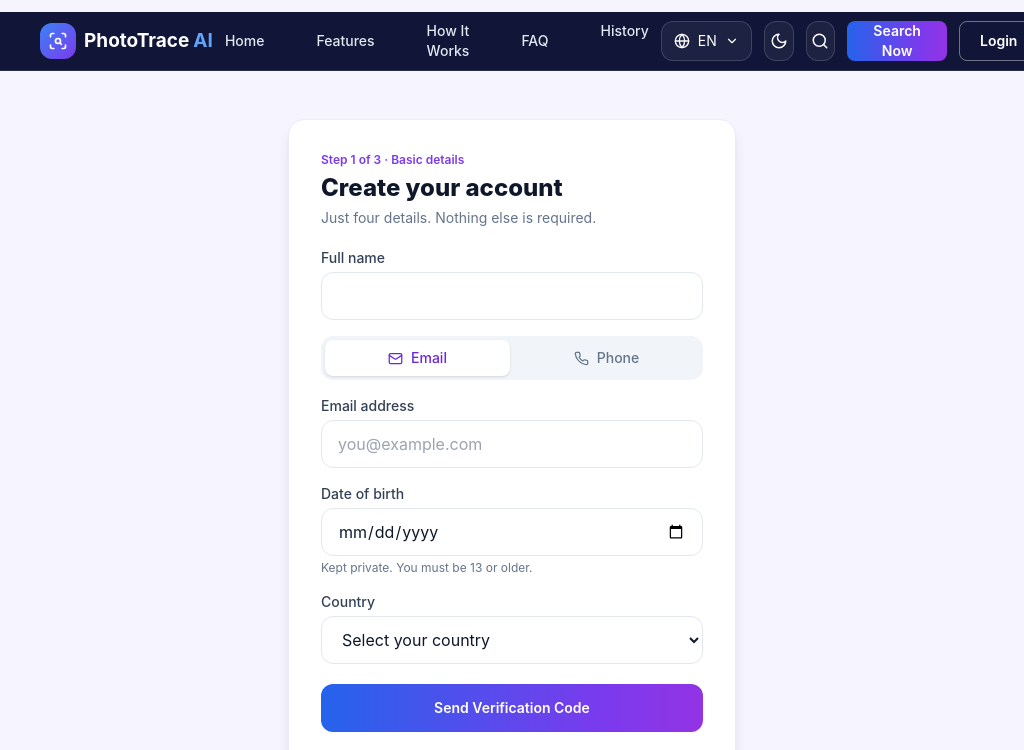
Test case: sign-up guidance › stays on step 1 and shows the error when delivery fails (503)
Type "Ada Lovelace" into the field labelled "Full name" at (512, 296), box [321, 272, 703, 320]
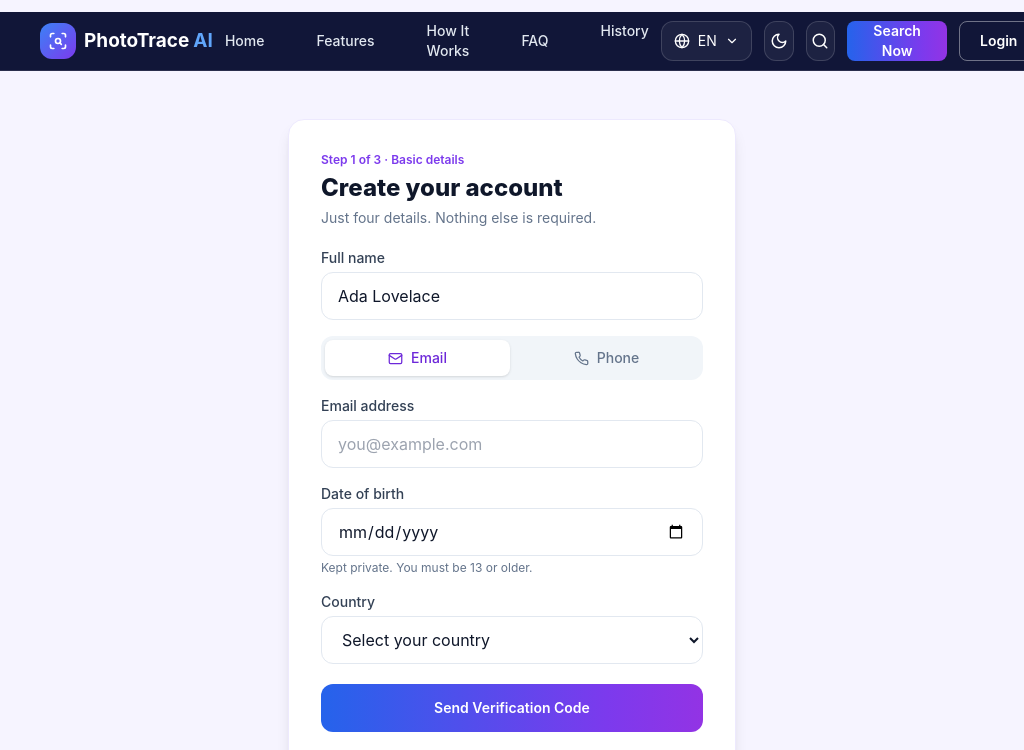
Type "ada@example.com" into the field labelled "Email address" at (512, 444), box [321, 420, 703, 468]
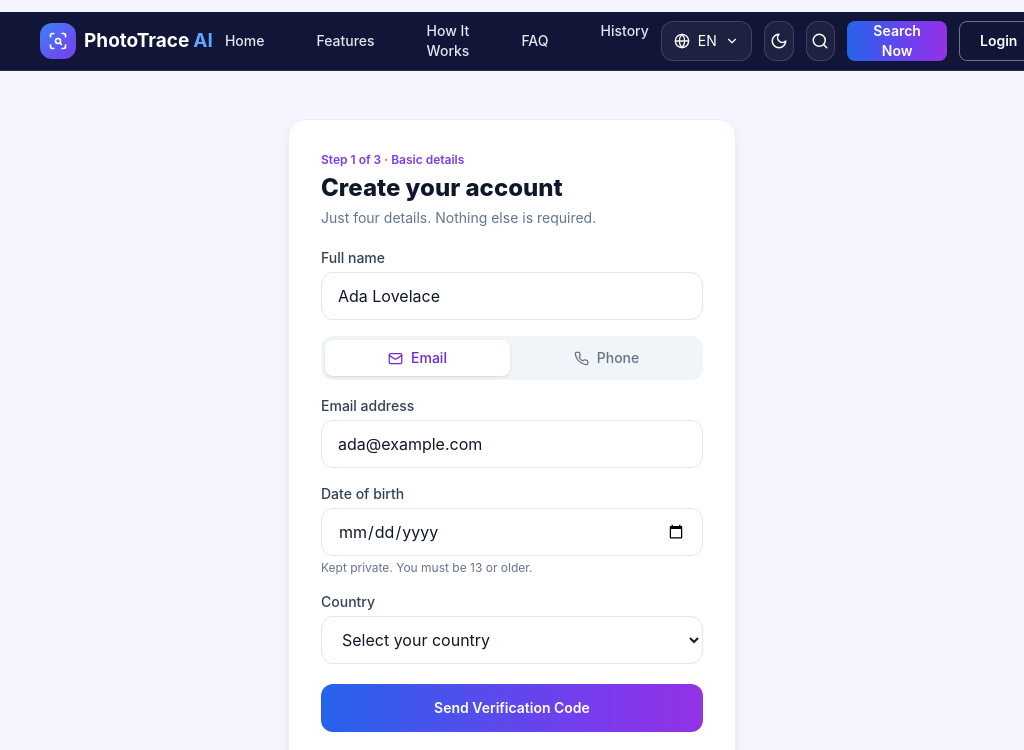
Type "1990-05-01" into the date field labelled "Date of birth" at (512, 532), box [321, 508, 703, 556]
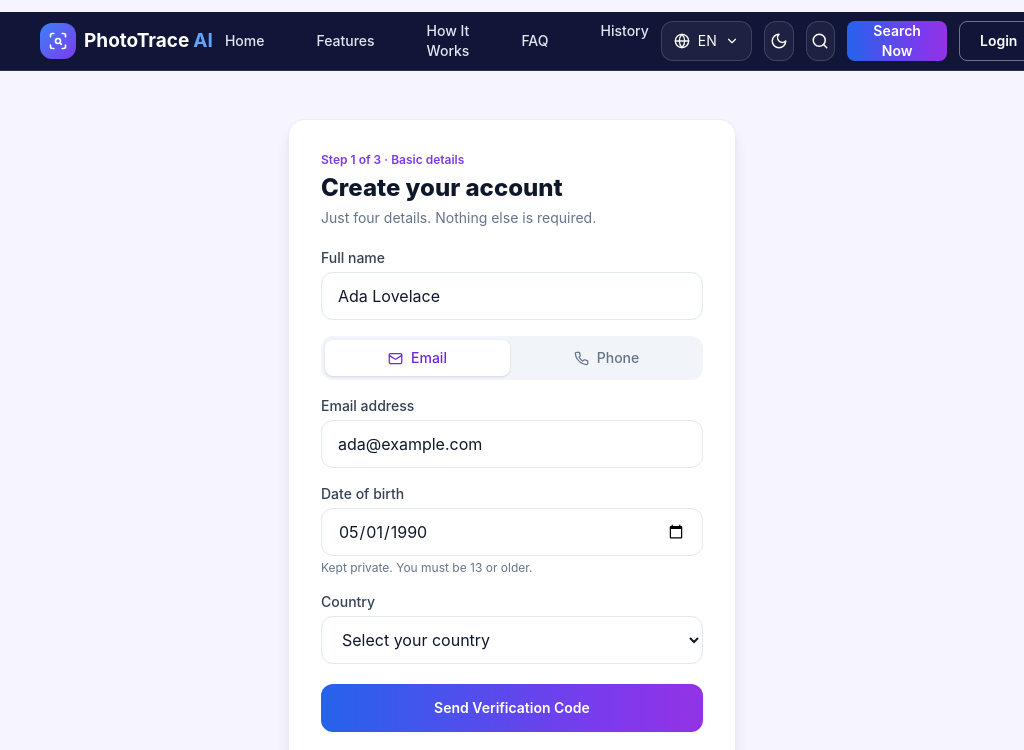
Select "GB" in the dropdown labelled "Country" at (512, 640), box [321, 616, 703, 664]
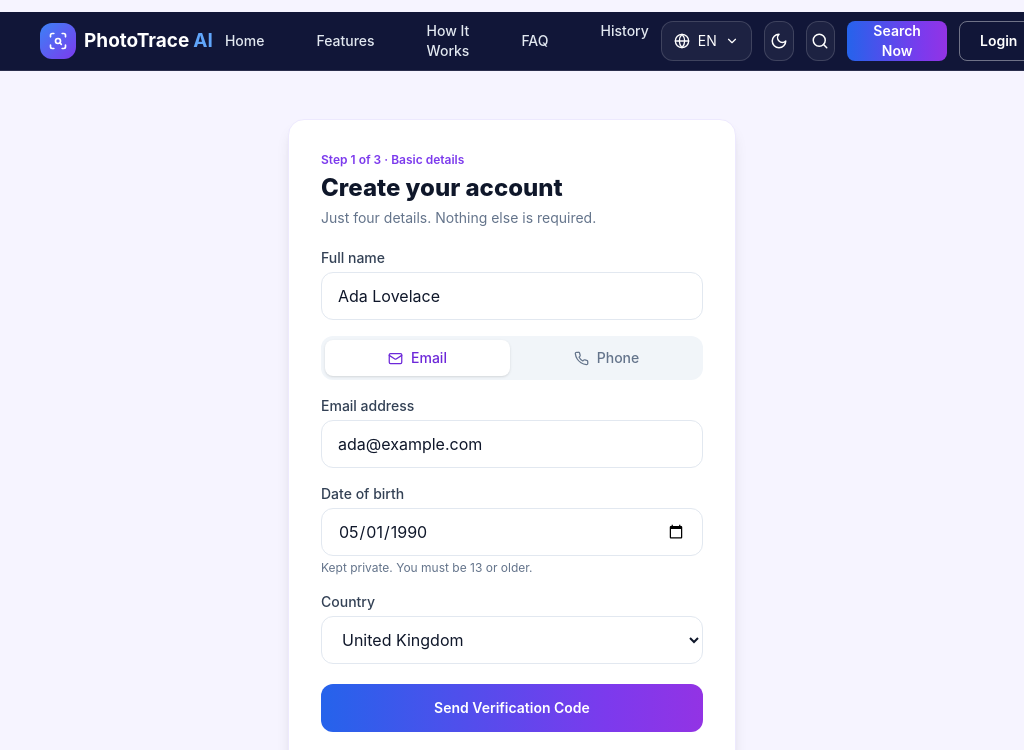
Click the button "Send Verification Code" at (512, 708), box [321, 684, 703, 732]
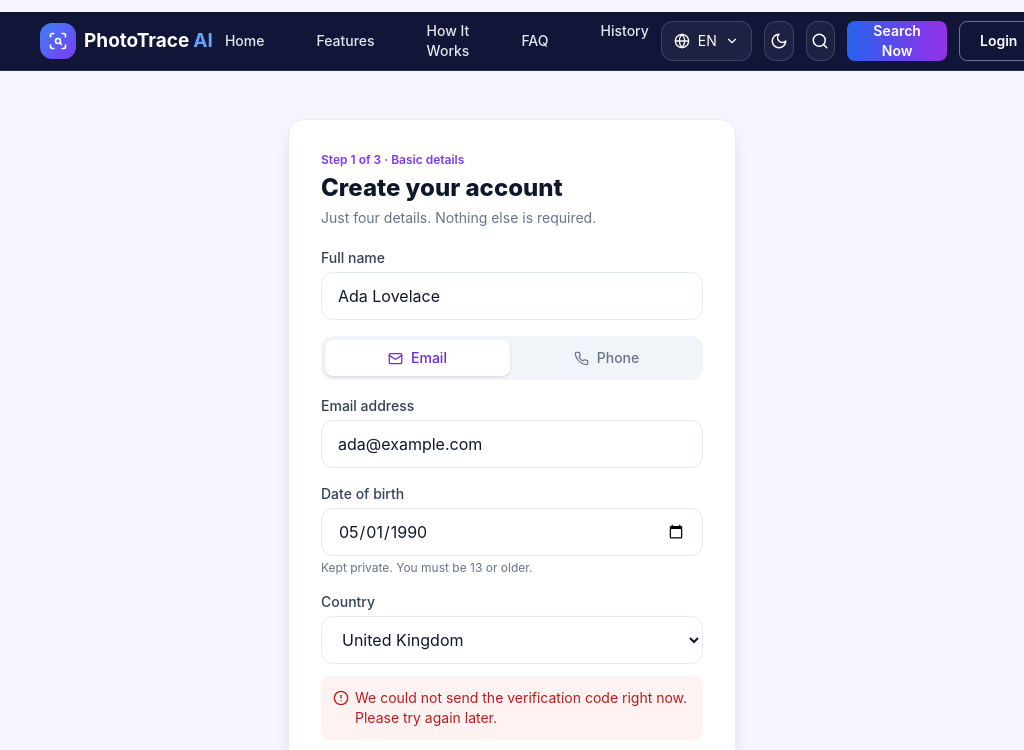
Now the message shows "could not send", box [355, 689, 687, 726]
